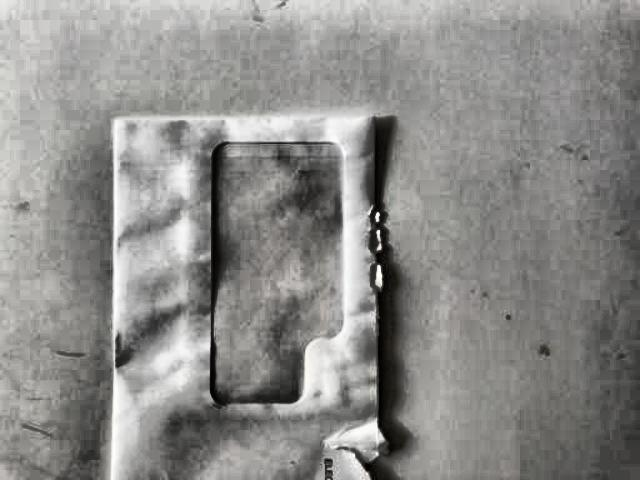Paper: (110, 114, 396, 480)
